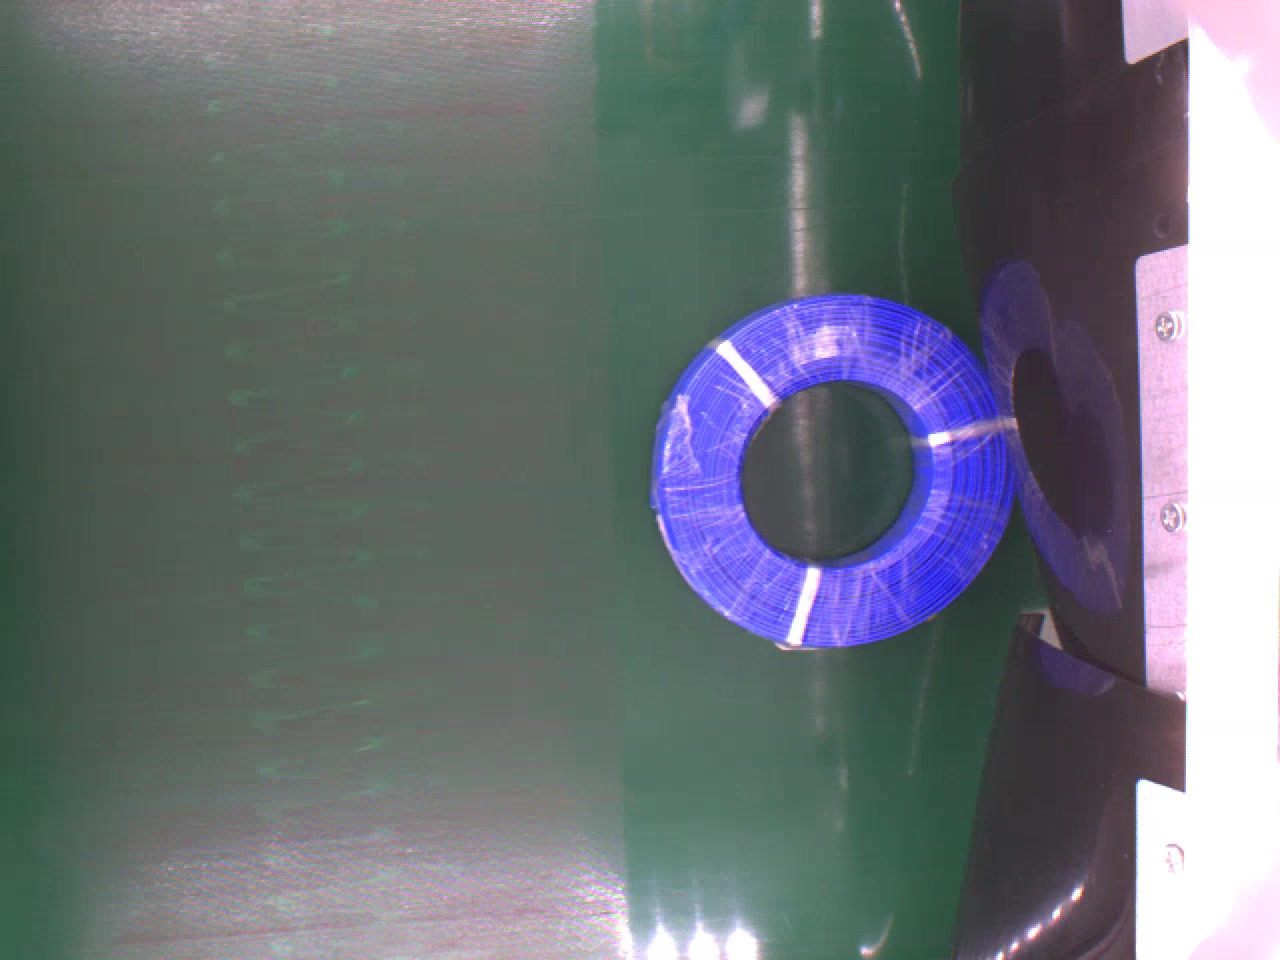blue: (648, 290, 1012, 652)
